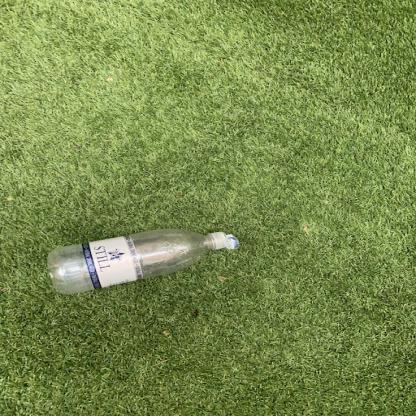trash: (40, 227, 253, 297)
